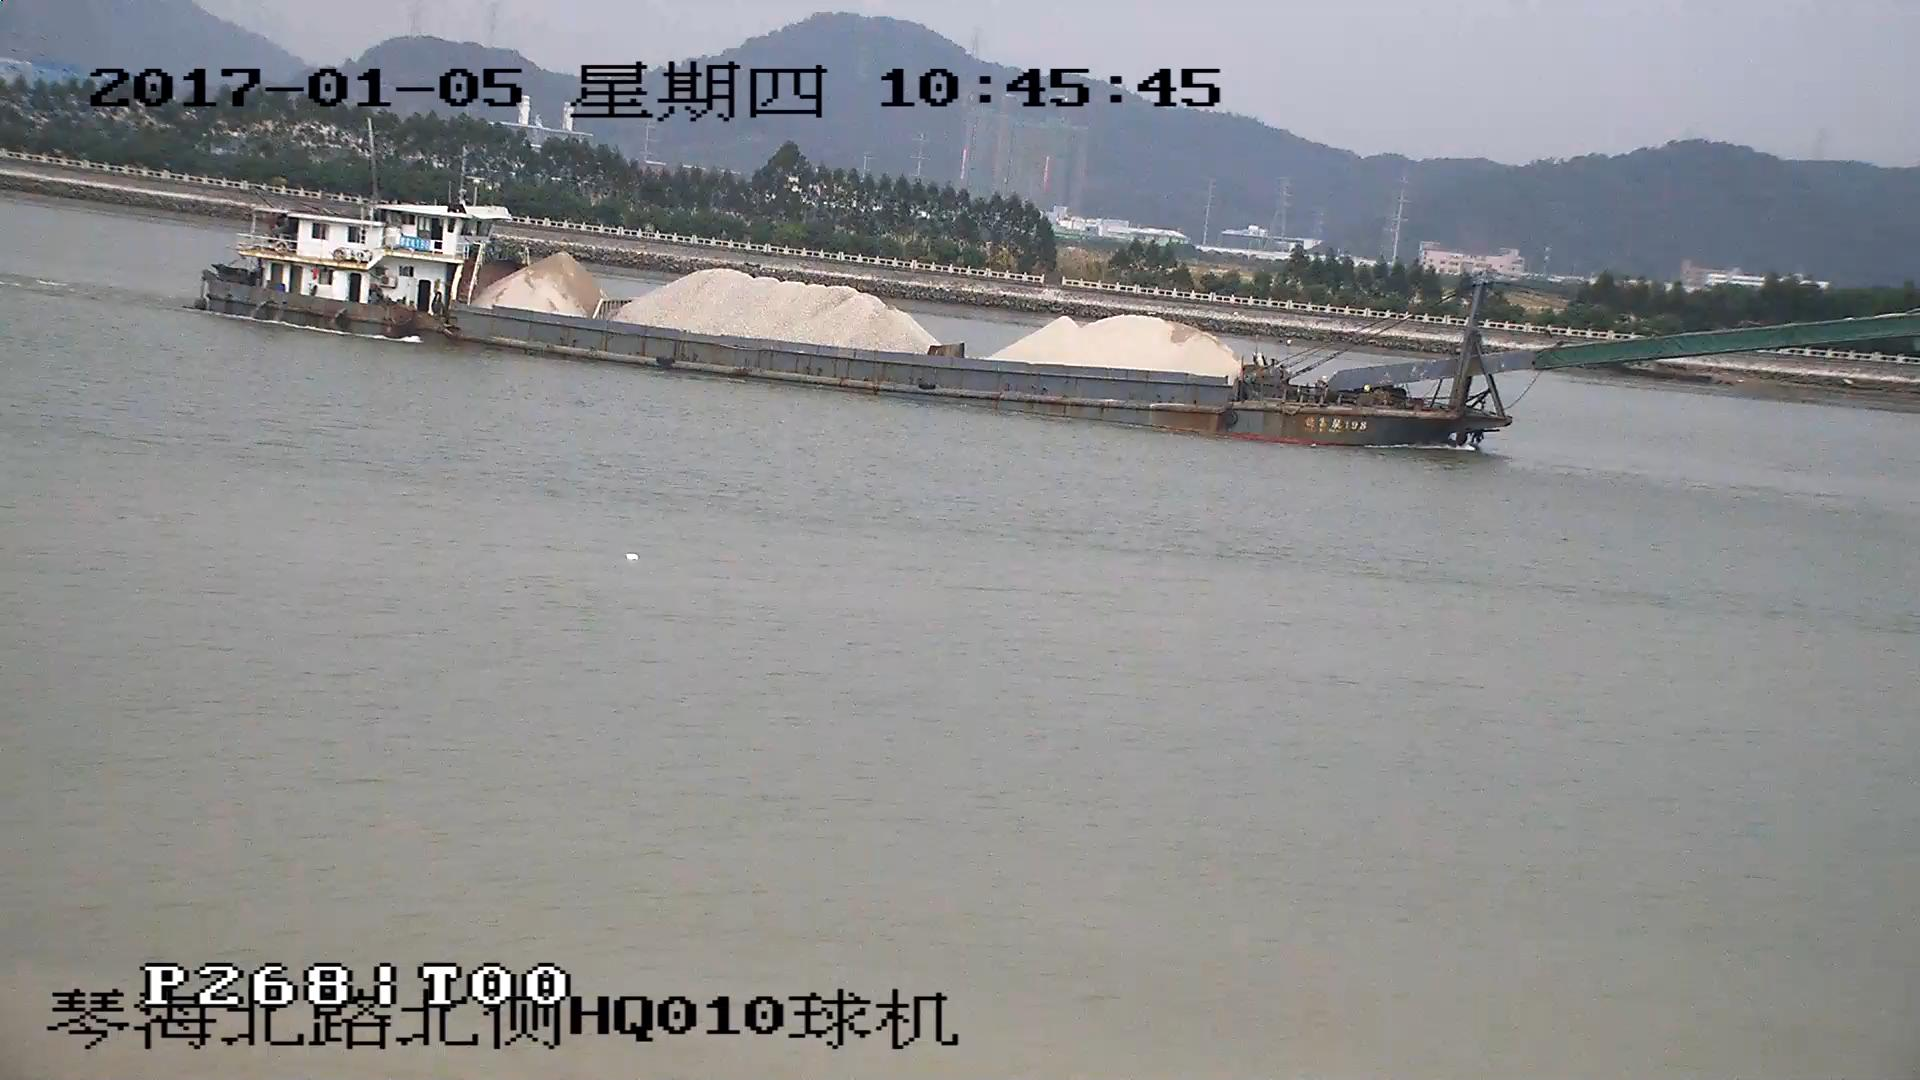ore carrier: (201, 194, 1919, 456)
